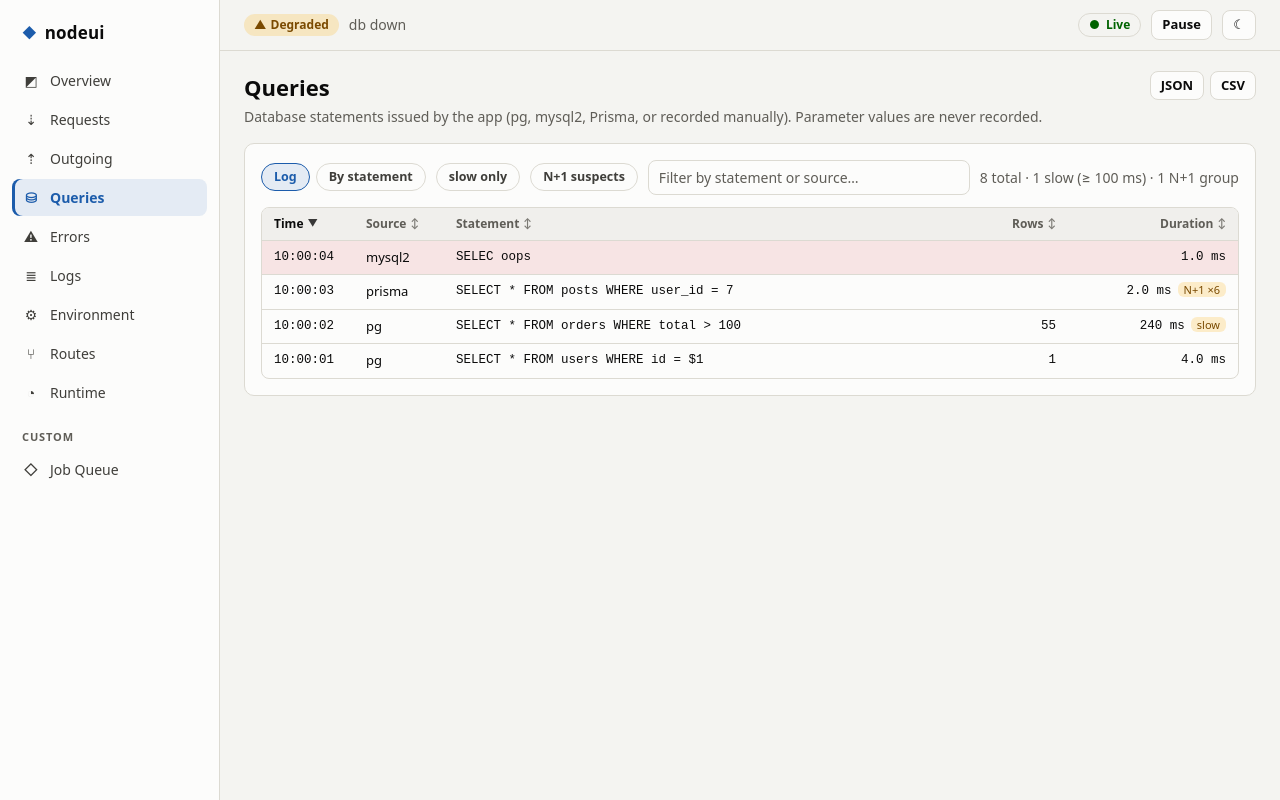
Test case: Queries view › shows flags, filters and a statement drawer
This screenshot has width=1280, height=800.
Expected: the text "SELECT * FROM orders WHERE total > 100" is shown, [444,310,996,344]
Expected: the text "8 total · 1 slow (≥ 100 ms) · 1 N+1 group" is shown, [980,166,1239,188]
Click the button "slow only".
click(478, 177)  # box [436,163,520,191]
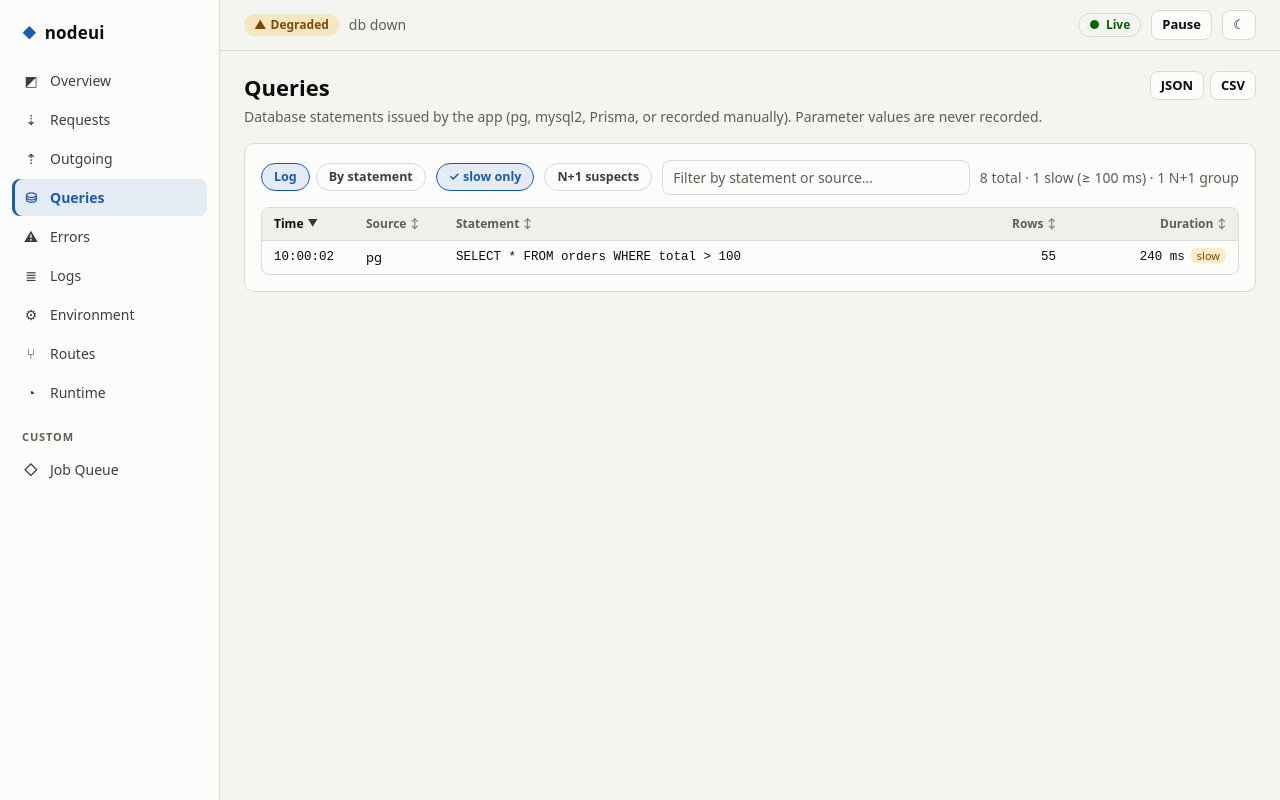
Now the text "FROM users" is gone
Click the button "✓ slow only".
click(485, 177)  # box [436,163,534,191]
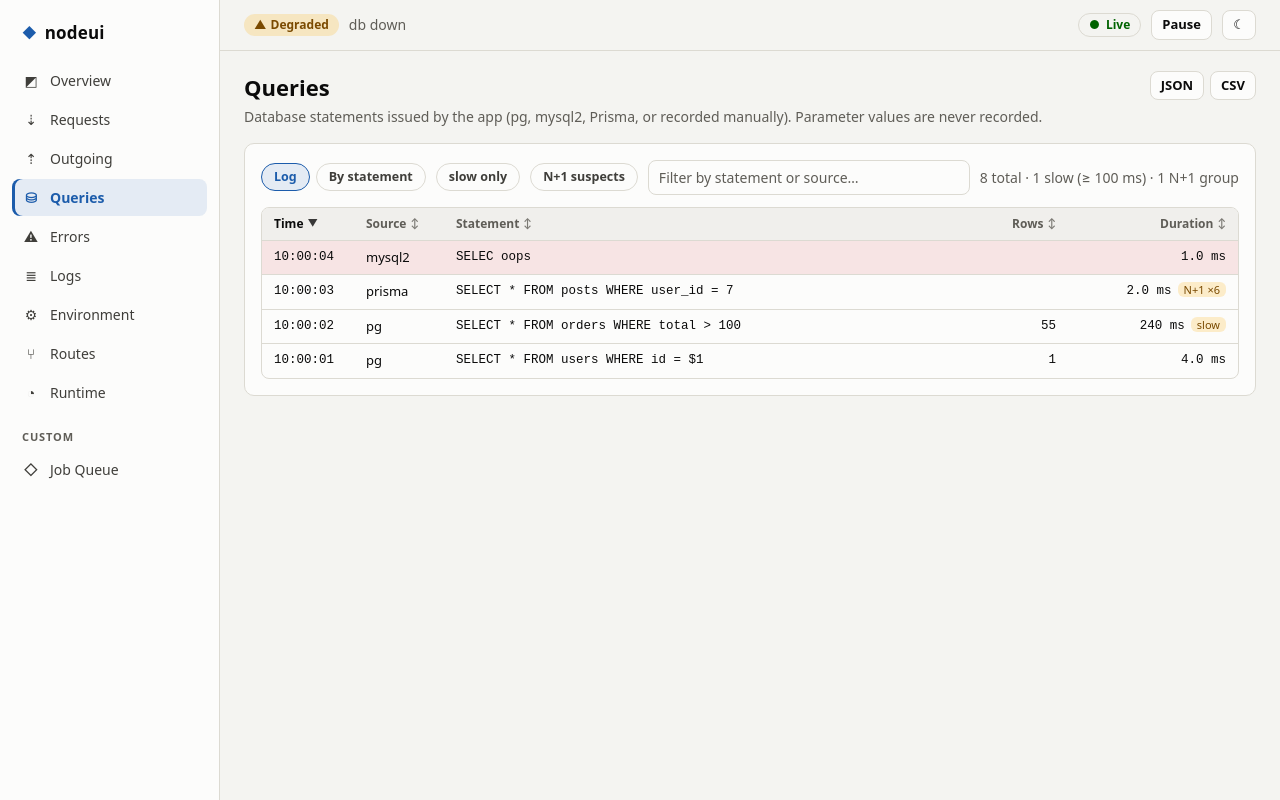
Click the button "N+1 suspects".
click(584, 177)  # box [530,163,638,191]
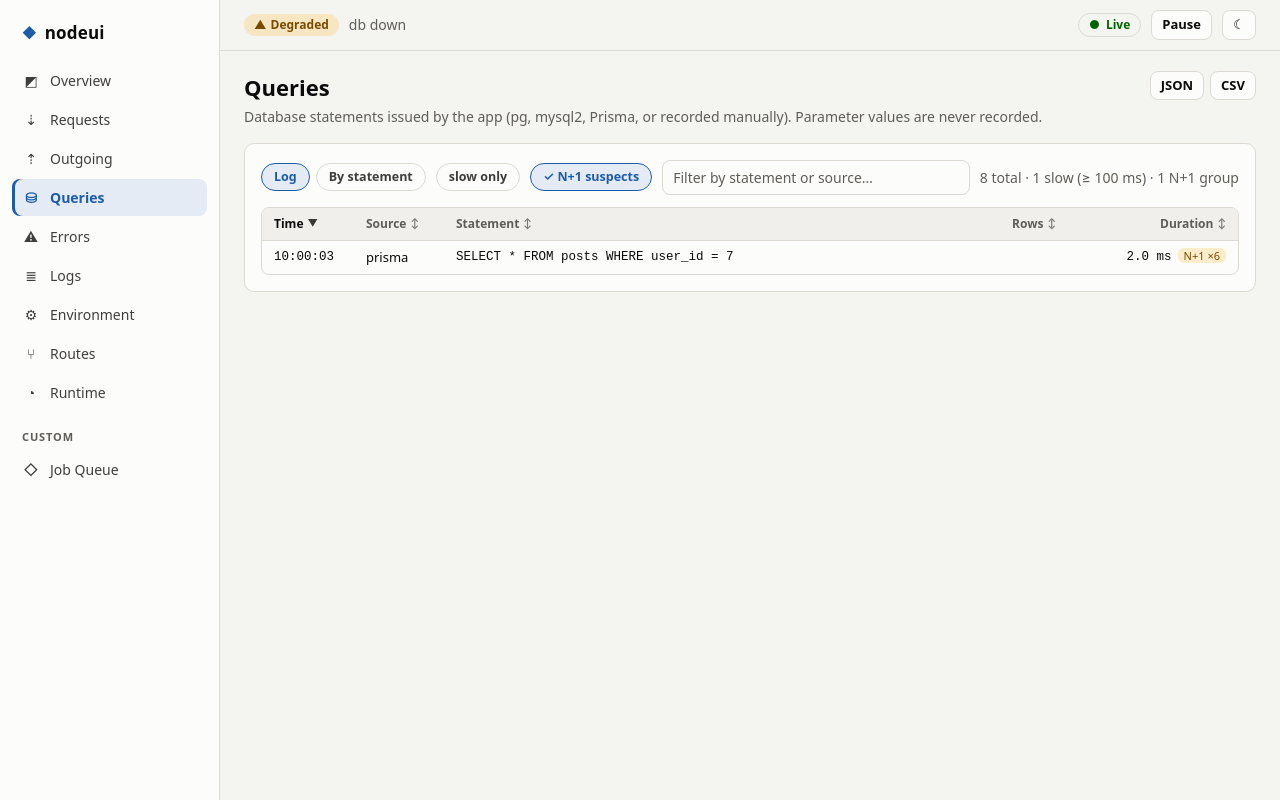
Now the text "FROM orders" is gone
Click the text "SELECT * FROM posts WHERE user_id = 7".
click(720, 257)  # box [444,240,996,274]
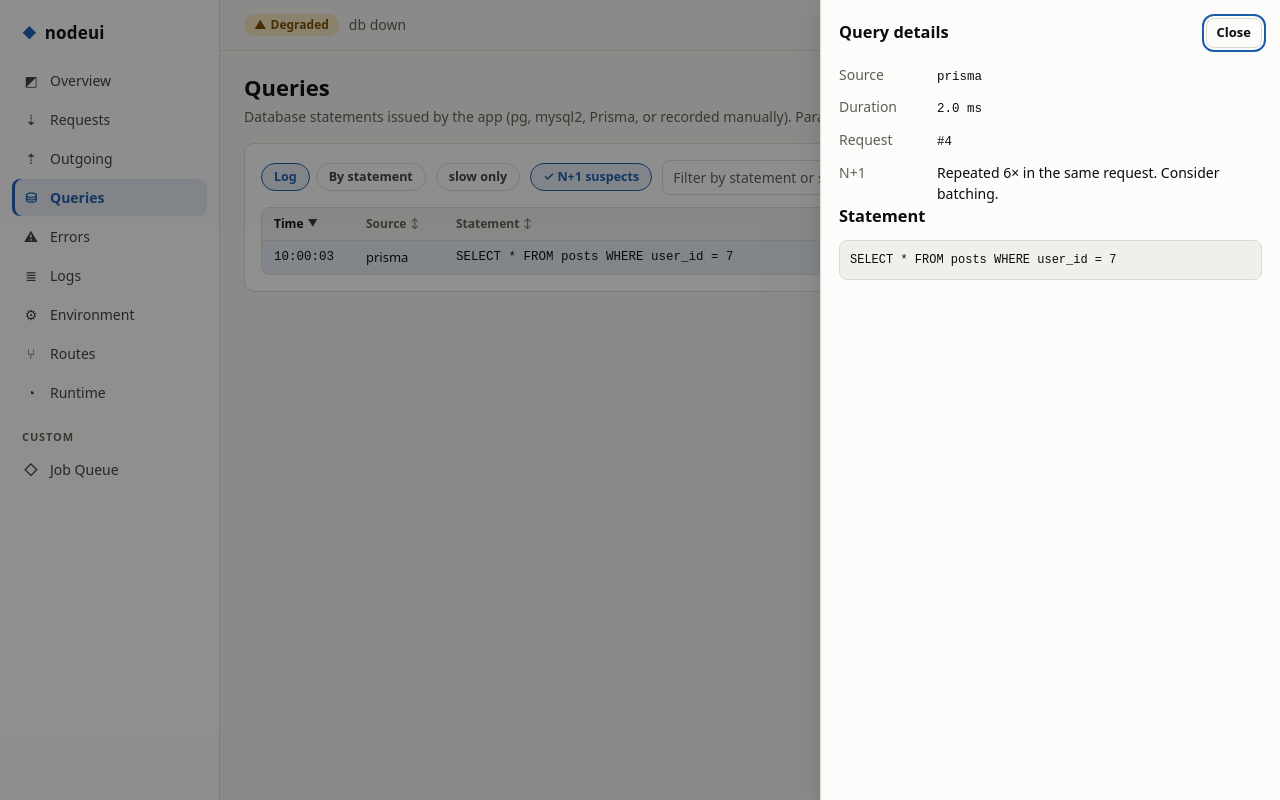
Now the text "Repeated 6× in the same request. Consider batching." is shown, box [937,162,1262,204]
